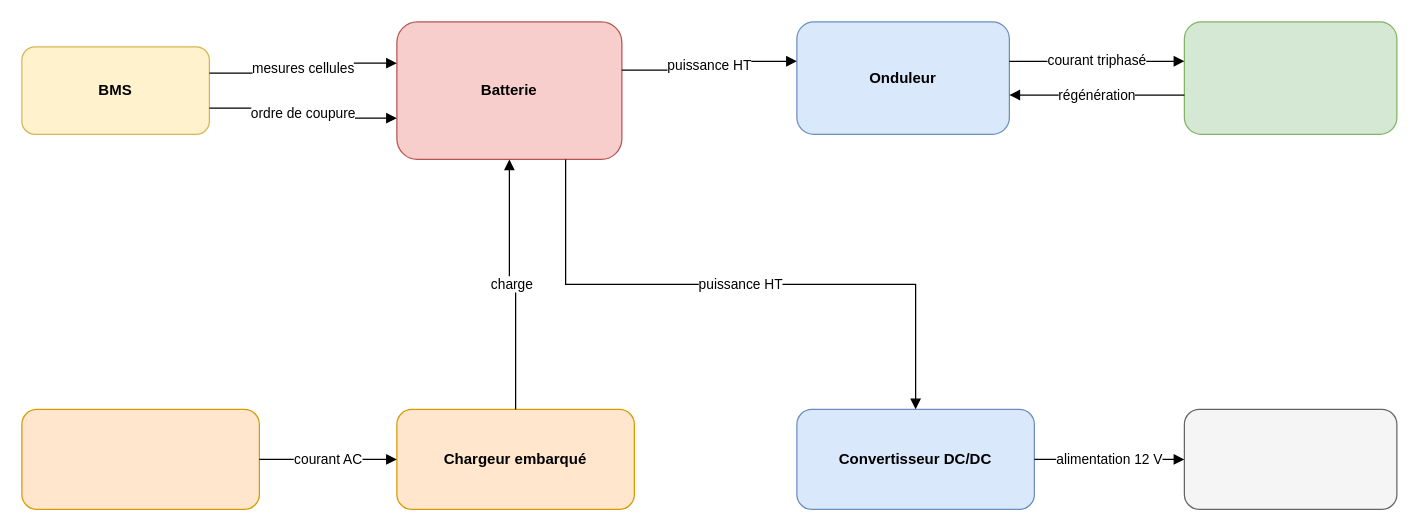
This 1419x531 diagram has some shape labels left out. Here are the shapes that lost their labels. From the top down, the centre of each, then its label:
point 1290,77: Moteur
point 140,458: Prise de recharge
point 1290,458: Réseau 12 V
